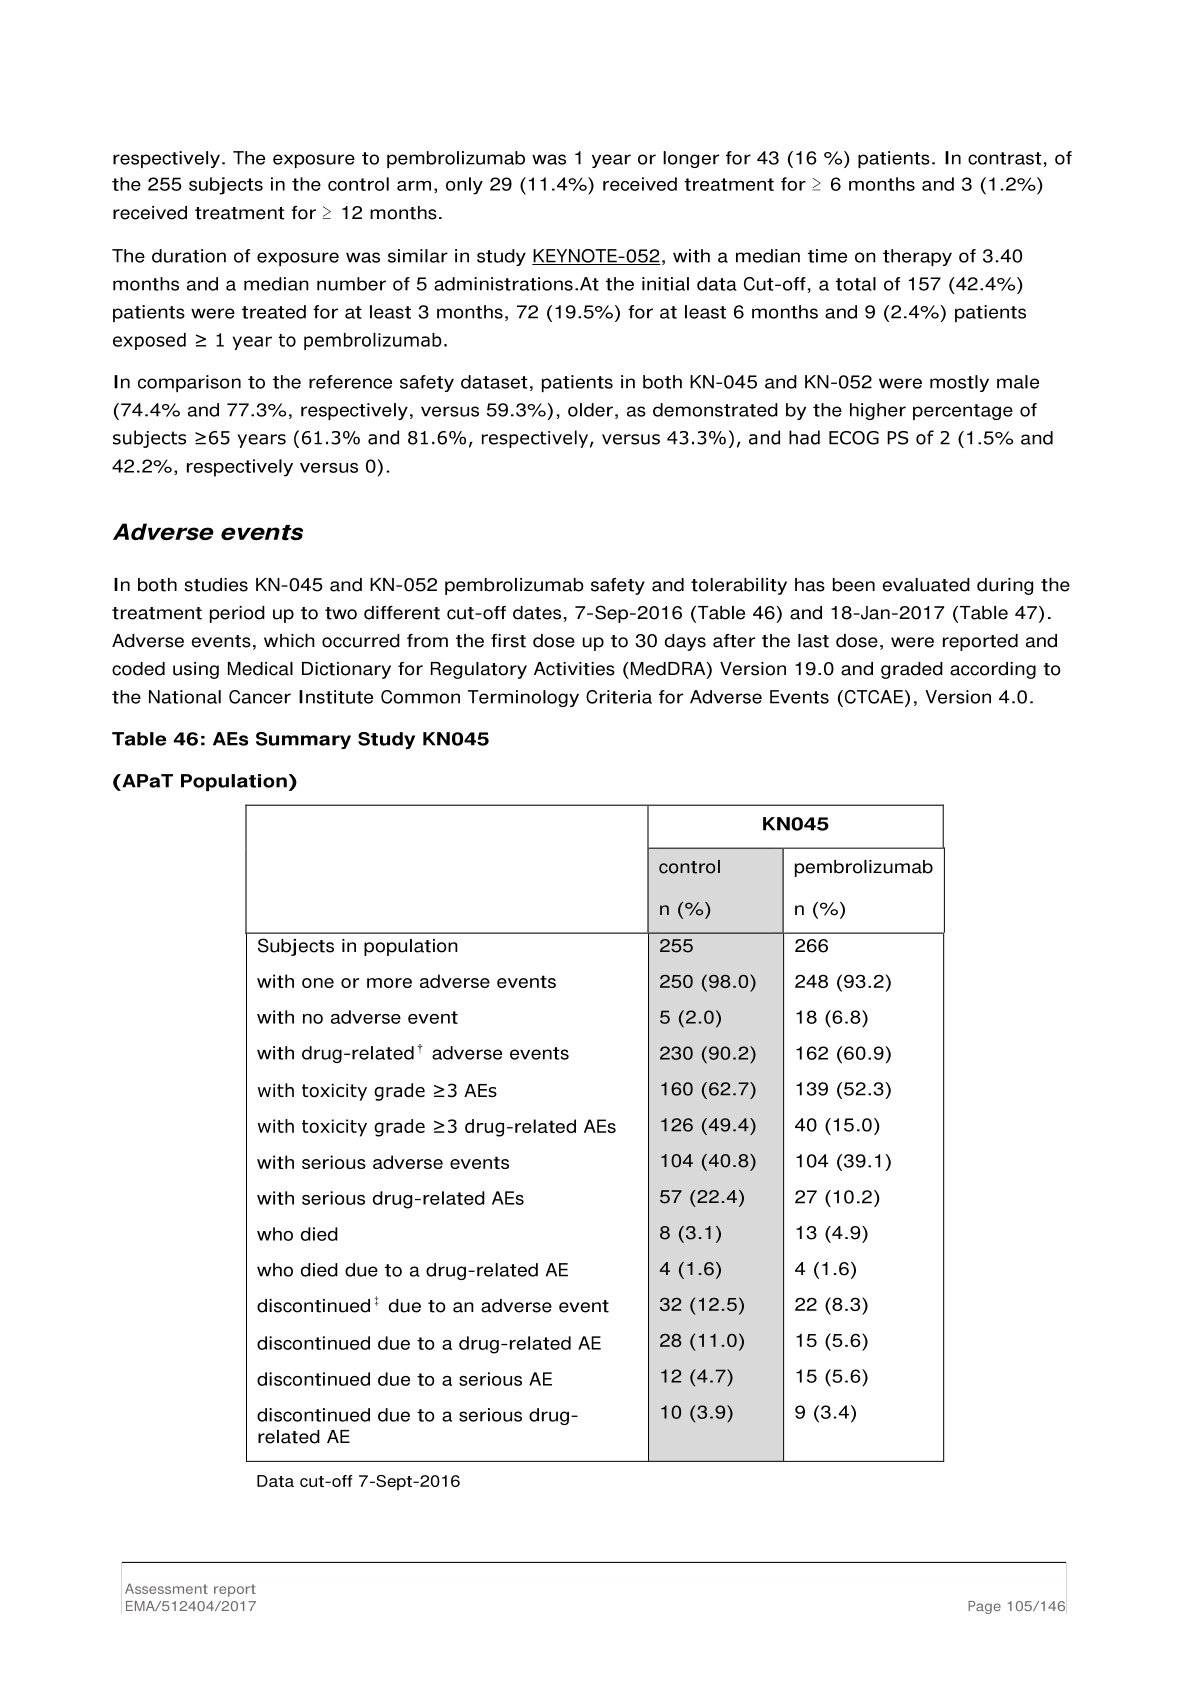partial_lined_merged_cells: (243, 802, 947, 1464)
